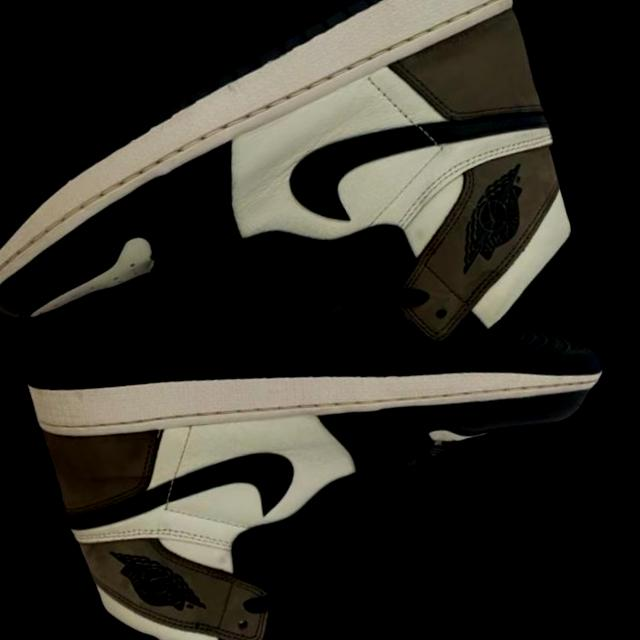nike_original_jordan: (0, 0, 640, 548), (0, 122, 640, 640)
